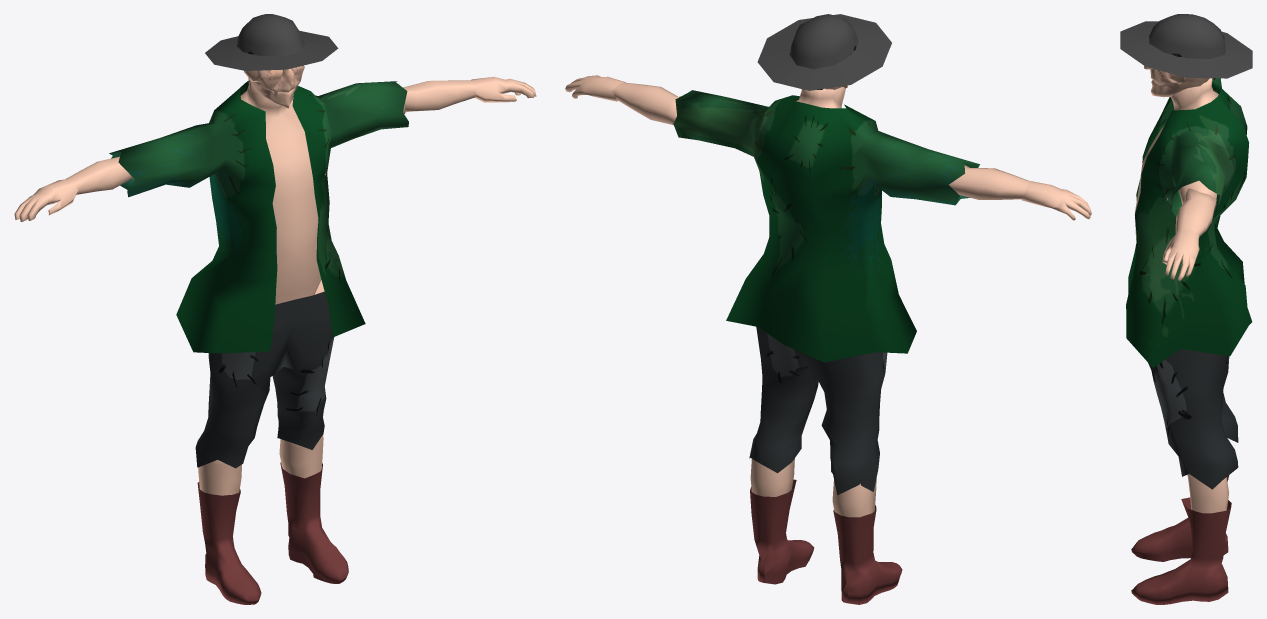
The model's file is Male_Villager_6.fbx.
The picture shows the model from 3 angles, left to right: view 1: azimuth 30°, elevation 25°; view 2: azimuth 150°, elevation 25°; view 3: azimuth 270°, elevation 25°; orthographic projection.
Visible parts, largest first — view 1: Villager_1_Shirt5, Villager_1_Pants3, Male_Villager6_Torso, Male_Villager6_Hat, Villager6_Right_Boot, Villager6_Left_Leg, Male_Villager6_Right_Arm_Part_2, Male_Villager6_Left_Arm_Part_2, Male_Villager6_Head, Villager6_Right_Leg_Part_2, Villager6_Left_Leg_Part_2; view 2: Villager_1_Shirt5, Villager_1_Pants3, Male_Villager6_Hat, Villager6_Left_Leg, Villager6_Right_Boot, Male_Villager6_Left_Arm_Part_2, Male_Villager6_Right_Arm_Part_2, Villager6_Right_Leg_Part_2, Villager6_Left_Leg_Part_2, Male_Villager6_Torso; view 3: Villager_1_Shirt5, Villager_1_Pants3, Male_Villager6_Hat, Villager6_Right_Boot, Male_Villager6_Right_Arm_Part_2, Villager6_Left_Leg, Villager6_Right_Leg_Part_2, Male_Villager6_Torso, Male_Villager6_Head, Male_Villager6_Right_Arm_Part_1.
Boxes of the visible parts, bbox=[...] form: Villager_1_Shirt5: bbox=[109, 81, 408, 353]; Villager_1_Pants3: bbox=[195, 291, 334, 468]; Male_Villager6_Torso: bbox=[240, 78, 325, 304]; Male_Villager6_Hat: bbox=[205, 14, 338, 70]; Villager6_Right_Boot: bbox=[280, 462, 348, 583]; Villager6_Left_Leg: bbox=[197, 482, 261, 604]; Male_Villager6_Right_Arm_Part_2: bbox=[403, 77, 536, 112]; Male_Villager6_Left_Arm_Part_2: bbox=[14, 156, 132, 221]; Male_Villager6_Head: bbox=[244, 65, 304, 108]; Villager6_Right_Leg_Part_2: bbox=[279, 435, 323, 478]; Villager6_Left_Leg_Part_2: bbox=[198, 460, 241, 495]; Villager_1_Shirt5: bbox=[673, 90, 979, 362]; Villager_1_Pants3: bbox=[749, 326, 887, 495]; Male_Villager6_Hat: bbox=[757, 14, 891, 90]; Villager6_Left_Leg: bbox=[833, 505, 902, 604]; Villager6_Right_Boot: bbox=[750, 479, 814, 584]; Male_Villager6_Left_Arm_Part_2: bbox=[949, 165, 1091, 220]; Male_Villager6_Right_Arm_Part_2: bbox=[565, 75, 680, 124]; Villager6_Right_Leg_Part_2: bbox=[750, 458, 794, 496]; Villager6_Left_Leg_Part_2: bbox=[832, 478, 876, 517]; Male_Villager6_Torso: bbox=[796, 87, 845, 108]; Villager_1_Shirt5: bbox=[1126, 78, 1252, 367]; Villager_1_Pants3: bbox=[1148, 349, 1238, 489]; Male_Villager6_Hat: bbox=[1120, 14, 1252, 78]; Villager6_Right_Boot: bbox=[1131, 497, 1231, 604]; Male_Villager6_Right_Arm_Part_2: bbox=[1162, 188, 1216, 280]; Villager6_Left_Leg: bbox=[1131, 475, 1229, 561]; Villager6_Right_Leg_Part_2: bbox=[1187, 474, 1229, 513]; Male_Villager6_Torso: bbox=[1134, 78, 1218, 242]; Male_Villager6_Head: bbox=[1144, 66, 1209, 97]; Male_Villager6_Right_Arm_Part_1: bbox=[1178, 180, 1217, 204].
Size of the model in its own units: 193 by 198 by 42.55.
